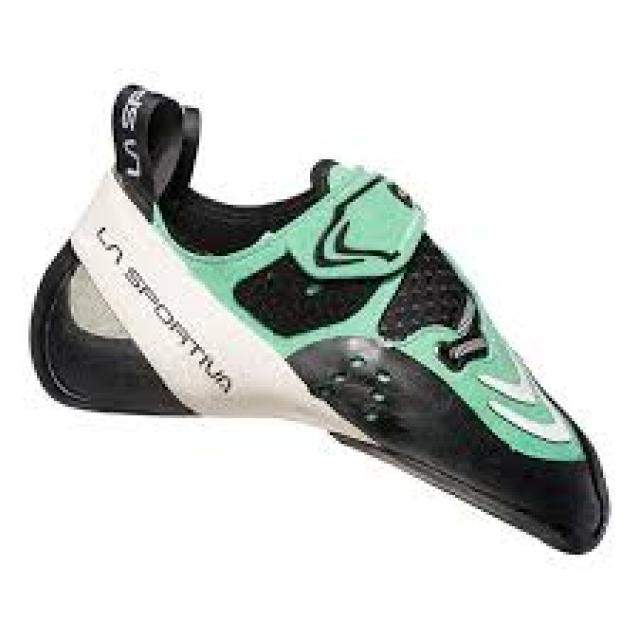climbing-shoes: (30, 83, 612, 555)
